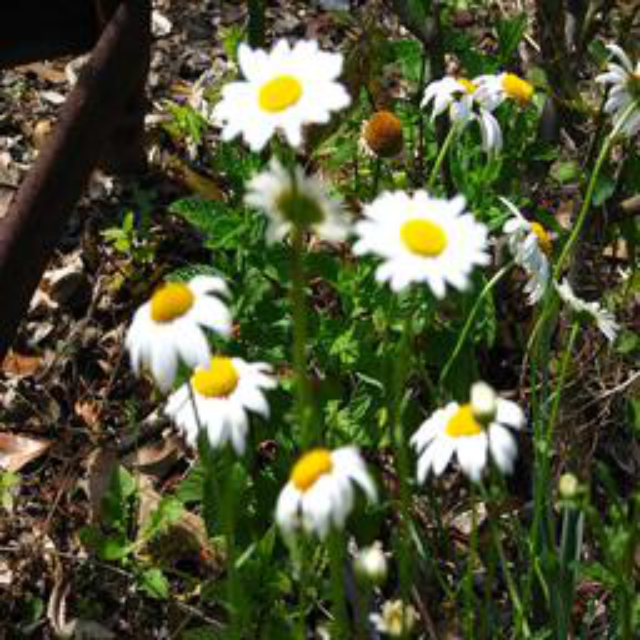daisy: (207, 34, 354, 161), (350, 177, 495, 302), (406, 382, 528, 488), (121, 273, 236, 384), (238, 153, 351, 263), (161, 355, 279, 458), (270, 444, 380, 542), (494, 193, 562, 307), (553, 267, 622, 350), (592, 34, 639, 141), (418, 66, 480, 145), (472, 59, 543, 121)
